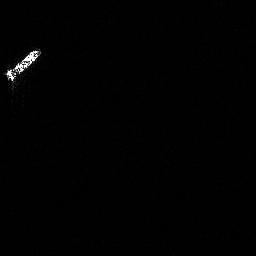ship: (6, 48, 42, 81)
